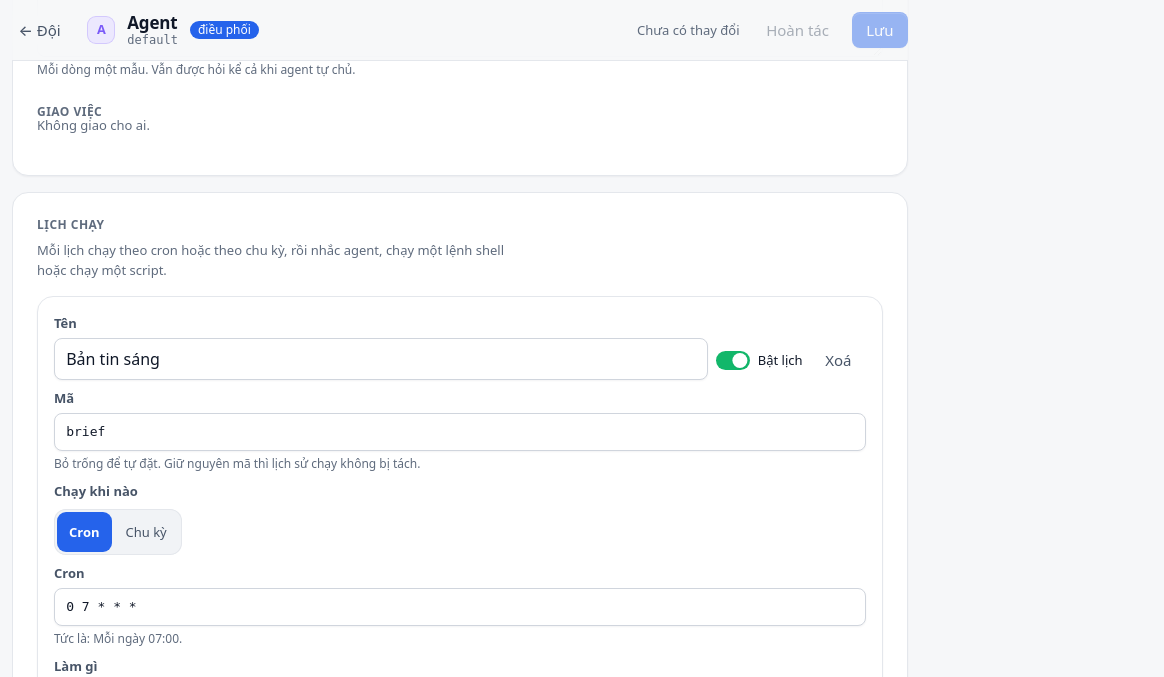
Scenario: the schedules part of the agent editor › says the same after a schedule is removed
The image size is (1164, 677).
(page scrolled)
Click the button "Xoá": click(838, 360) 810,340 -> 866,380
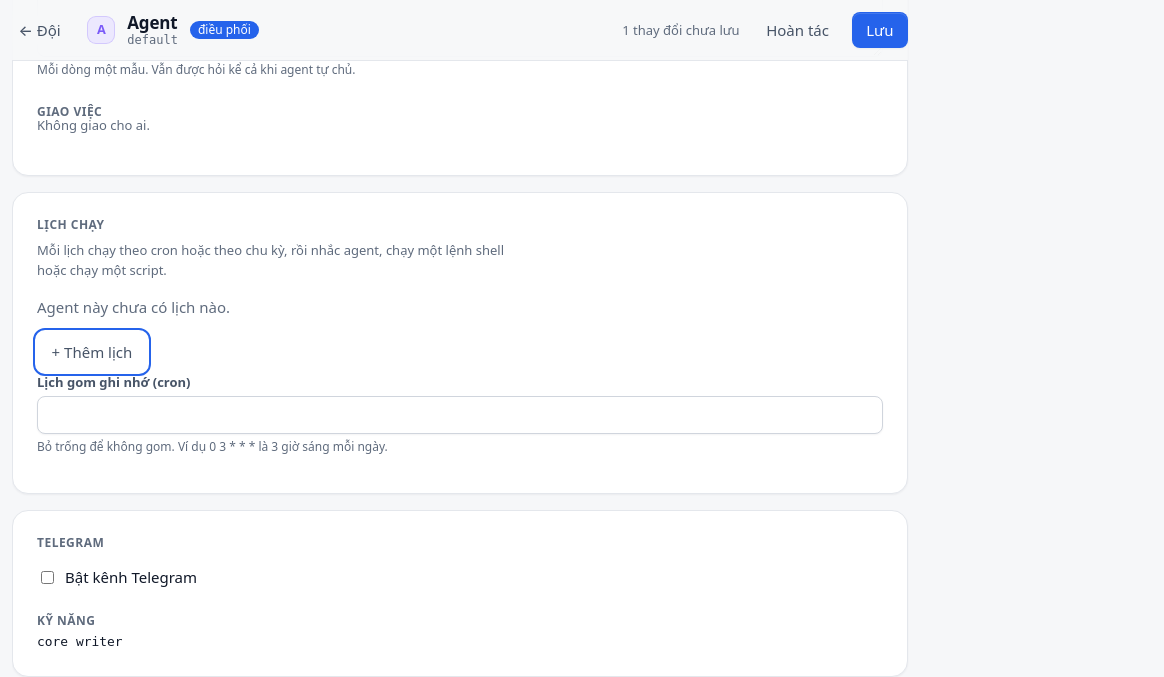
Click the button "Lưu": click(880, 30) 852,12 -> 908,48
(page scrolled)
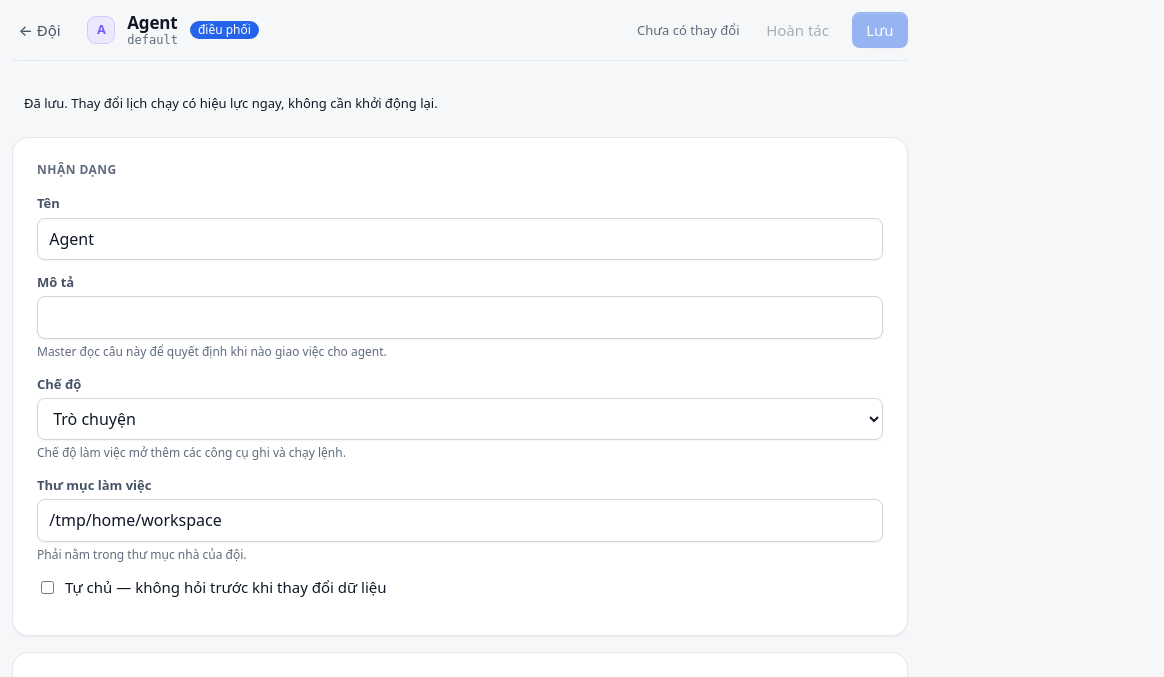
Result: the message with test id "schedule-live" reads "Đã lưu. Thay đổi lịch chạy có hiệu lực ngay, không cần khởi động lại." at 24,94 -> 438,112
